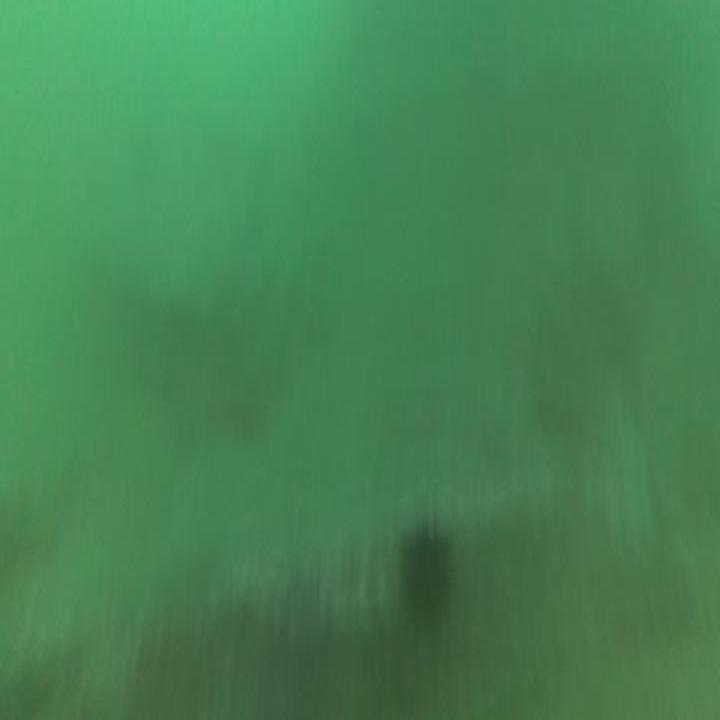echinus: (392, 516, 458, 640)
